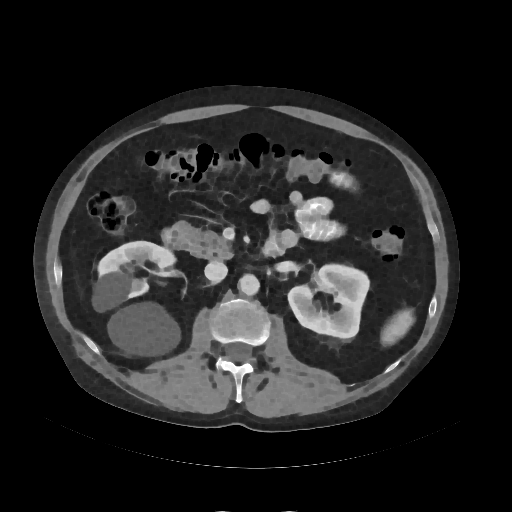Lesion: (99, 299, 184, 361)
